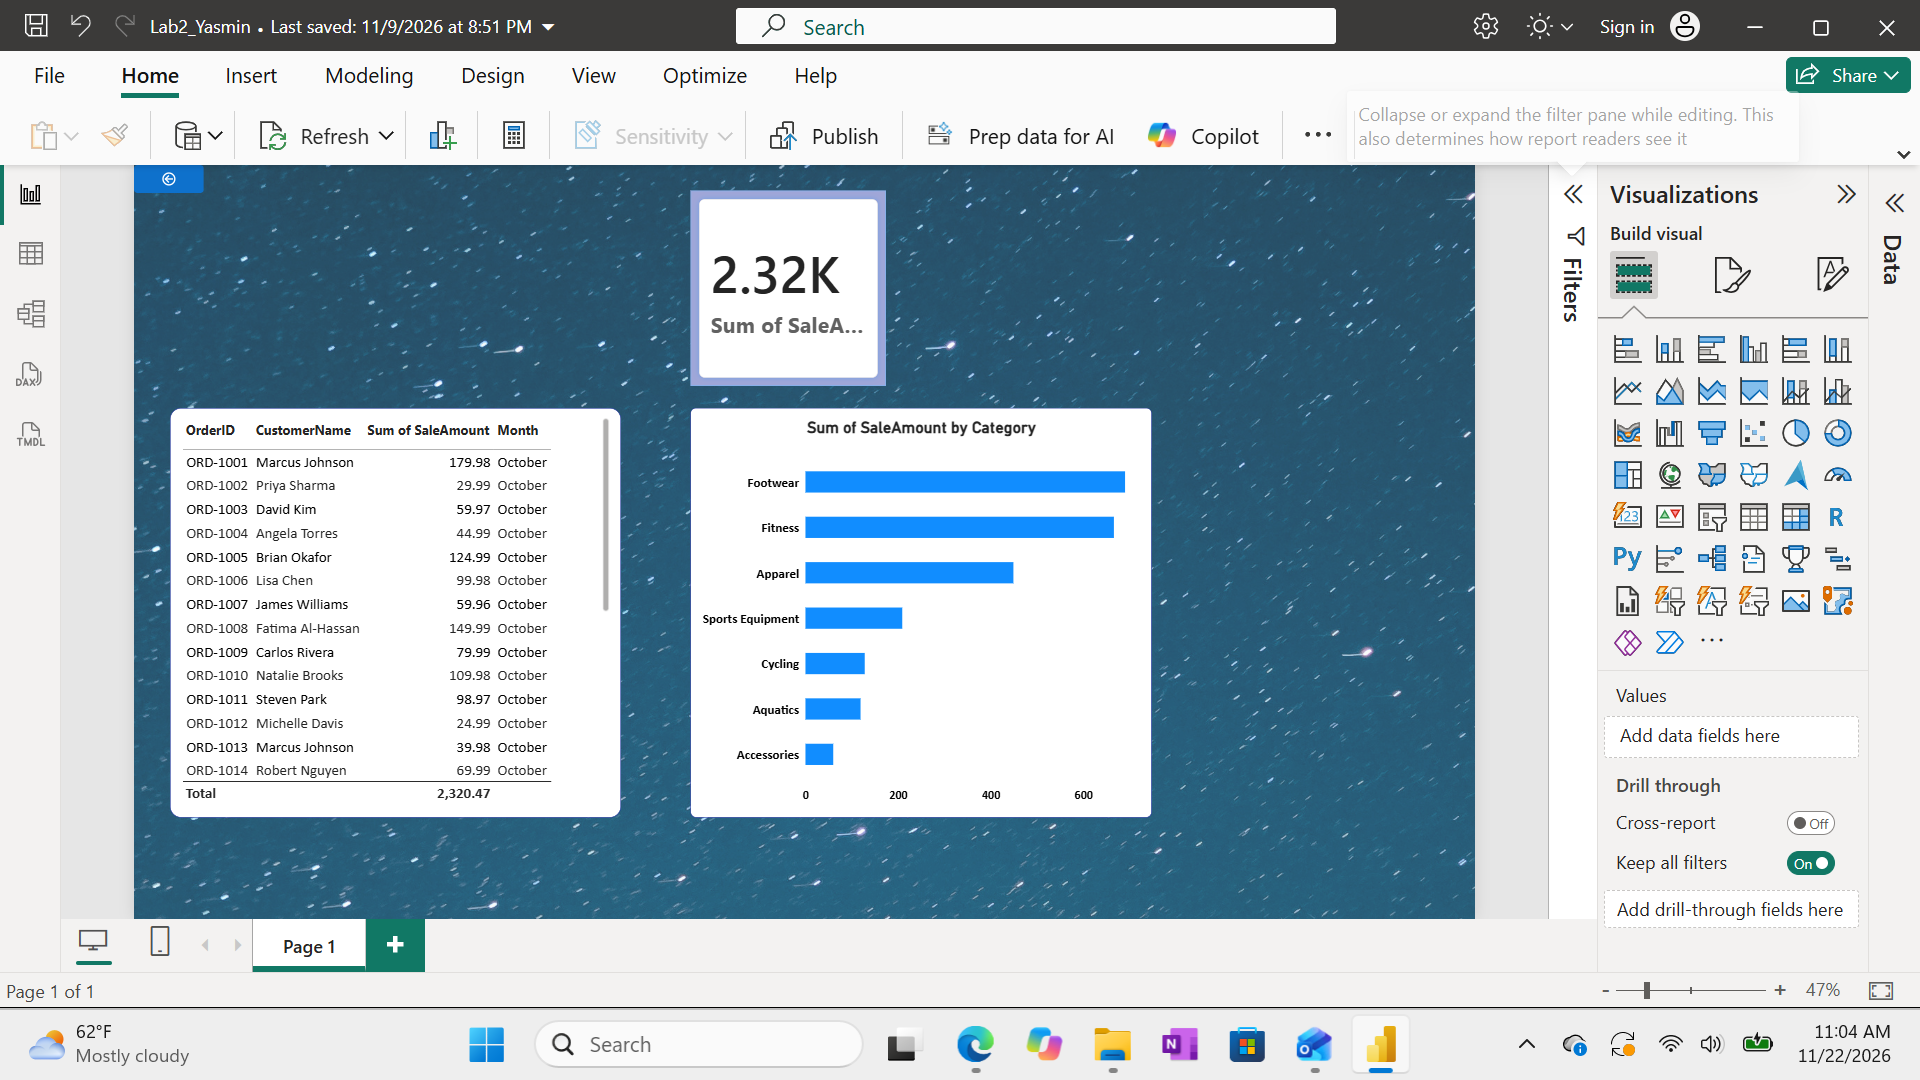

This screenshot's page, from the dashboard's own definition file:
{"tool":"powerbi","page":{"name":"Page 1","canvas":[1920,1080],"ordinal":0},"visuals":[{"type":"cardVisual","fields":{"Data":["Sum(OnlineSales.SaleAmount)"]},"box":[796.5,36.9,280,280],"z":0},{"type":"actionButton","box":[0,0,100,40],"z":2000},{"type":"tableEx","fields":{"Values":["OnlineSales.OrderID","OnlineSales.CustomerName","Sum(OnlineSales.SaleAmount)","OnlineSales.OrderDate.Variation.Date Hierarchy.Month"]},"box":[51,348.7,646.3,586.8],"z":2001},{"type":"barChart","fields":{"Category":["OnlineSales.Category"],"Y":["Sum(OnlineSales.SaleAmount)"]},"box":[796.5,348.7,660.5,586.8],"z":2002}]}

Visuals, with their boxes on the page's 1920x1080 design canvas (x1, y1, x2, y2). These are canvas units, not pixel positions in the 1920x1080 screenshot, which may show the page scaled, cropped or inside an application window:
cardVisual - Sum(OnlineSales.SaleAmount): bbox=(796, 37, 1076, 317)
actionButton: bbox=(0, 0, 100, 40)
tableEx - OnlineSales.OrderID x OnlineSales.CustomerName: bbox=(51, 349, 697, 936)
barChart - OnlineSales.Category x Sum(OnlineSales.SaleAmount): bbox=(796, 349, 1457, 936)
